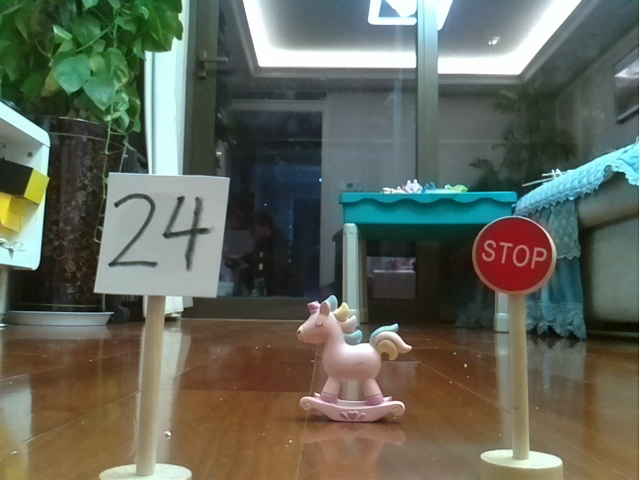Horse: (282, 282, 416, 426)
Speed Limit 24: (95, 158, 234, 480)
Stop Sign: (466, 210, 566, 480)
